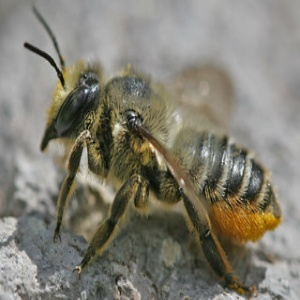bee: (24, 1, 283, 296)
